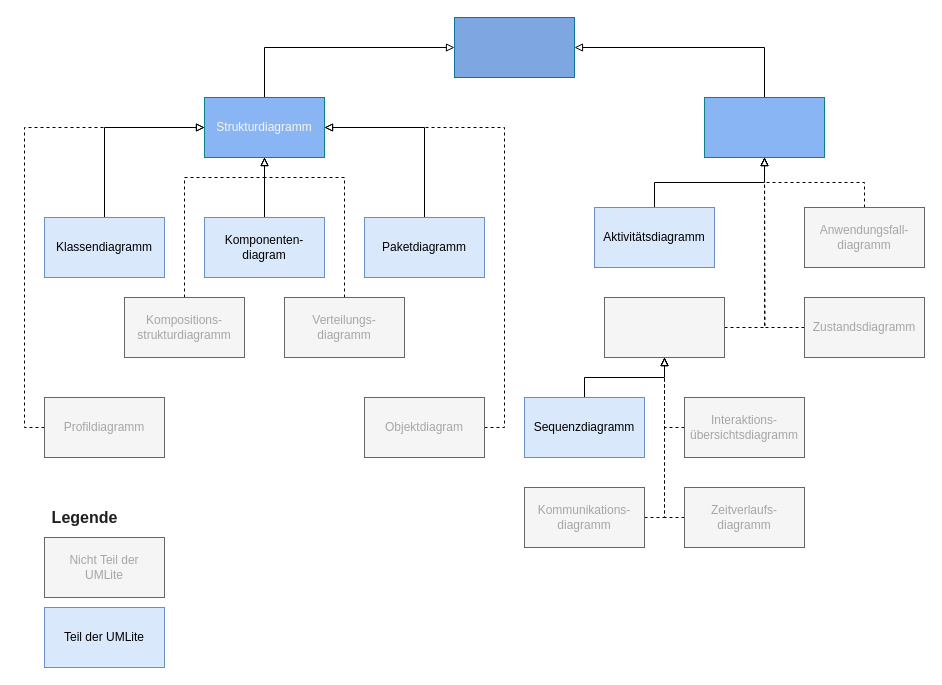
Image size: 942x685. Some labels were removed from this diagram. Here are the shapes that lost their labels. From the top down, the centre of each, then its label:
(514,47): Diagramm
(764,127): Verhaltensdiagramm
(664,327): Interaktions-diagramm
